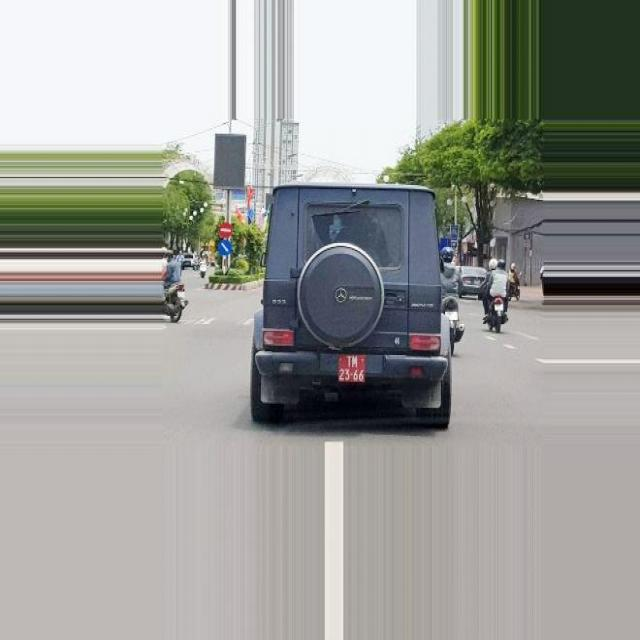License-Plates: (332, 348, 369, 388)
